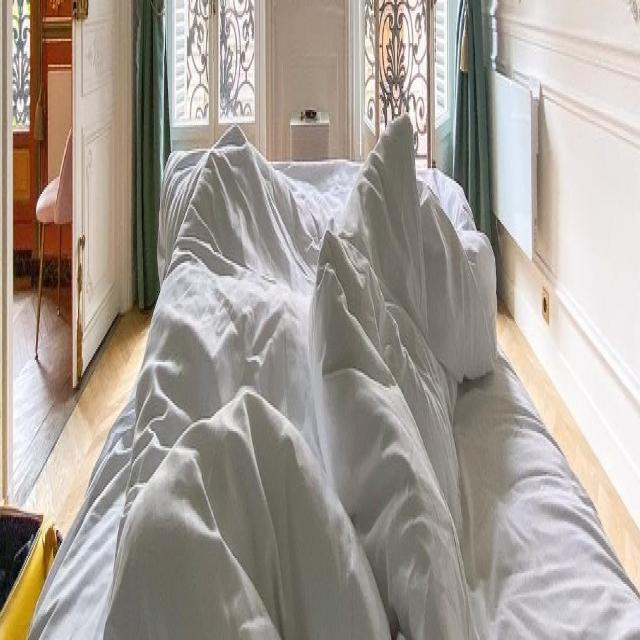bed: (26, 111, 632, 640)
